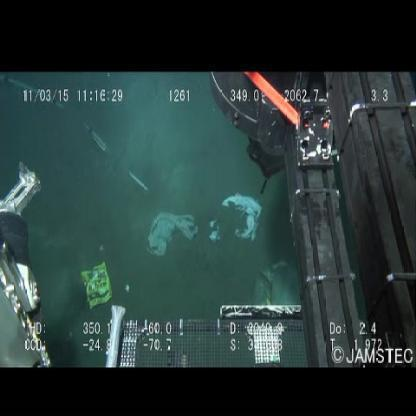Rác: (81, 262, 113, 310)
